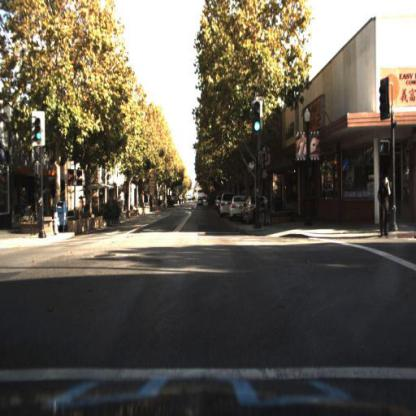car: (242, 199, 269, 230), (231, 203, 250, 236), (219, 191, 236, 225), (231, 200, 246, 220), (221, 196, 229, 220), (197, 200, 206, 213)
pedestrian: (382, 178, 398, 243), (378, 174, 393, 239), (255, 201, 267, 243), (15, 194, 24, 226)
trafficLight: (252, 99, 263, 136)
trafficLight-Green: (34, 115, 43, 150)
